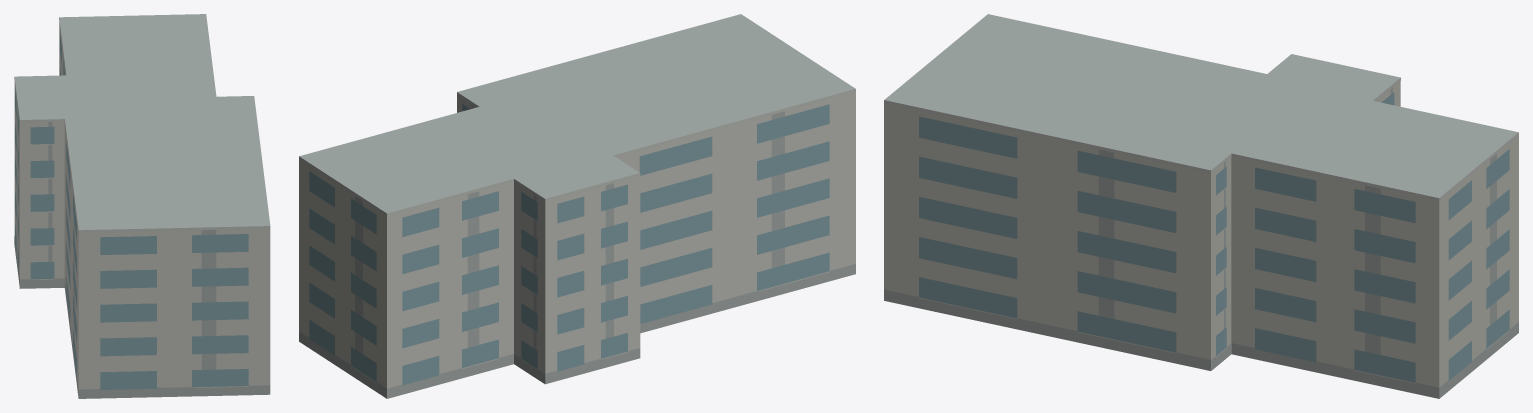
File: residential-a2a1191a-6d02-40da-8d66-03c755149376.glb
3 renders of one model, left to right at view 1: azimuth 30°, elevation 25°; view 2: azimuth 150°, elevation 25°; view 3: azimuth 270°, elevation 25°, orthographic. The views are drawn at different scales.
Parts seen in each view (by area): view 1: residential-a2a1191a-6d02-40da-8d66-03c755149376.tmp; view 2: residential-a2a1191a-6d02-40da-8d66-03c755149376.tmp; view 3: residential-a2a1191a-6d02-40da-8d66-03c755149376.tmp.
Part boxes in pixels (<box>): residential-a2a1191a-6d02-40da-8d66-03c755149376.tmp: <box>14,14,270,398</box>; residential-a2a1191a-6d02-40da-8d66-03c755149376.tmp: <box>299,14,855,398</box>; residential-a2a1191a-6d02-40da-8d66-03c755149376.tmp: <box>884,14,1518,398</box>.
Size of the model in its own units: 30.01 by 15.25 by 43.7.
